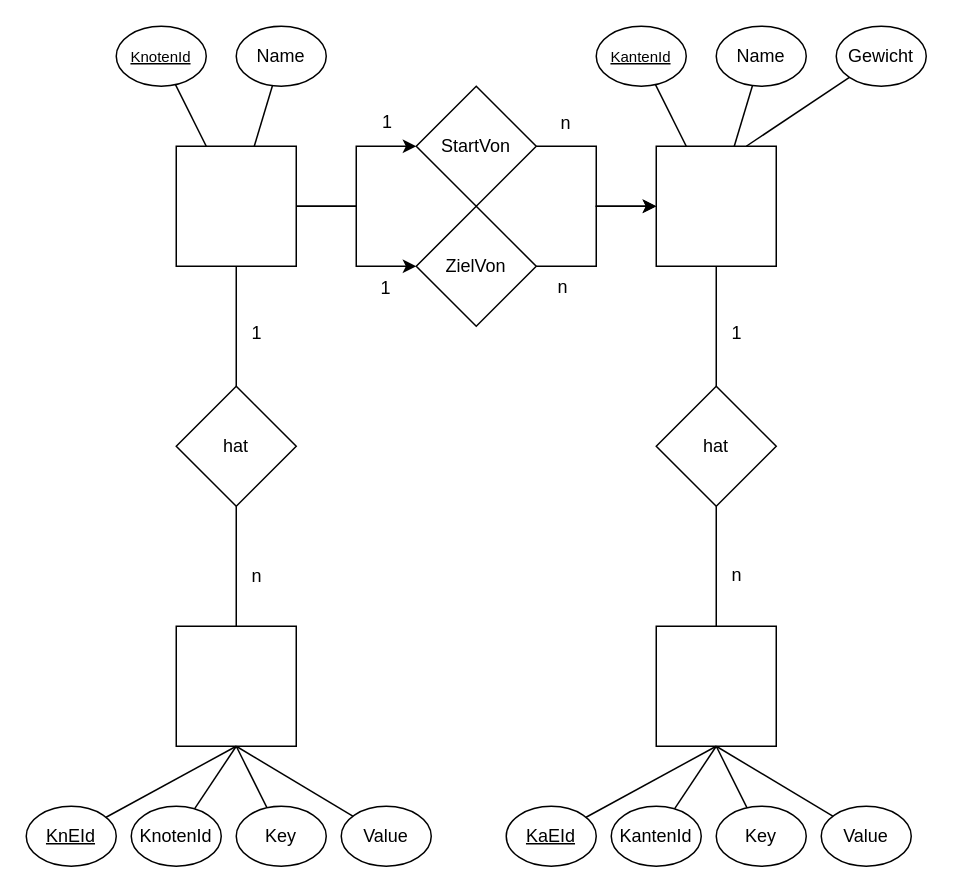
This 953x893 diagram has some shape labels left out. Here are the shapes that lost their labels. From the top down, the box of each, then its label:
(175, 145, 296, 266): Knoten
(655, 145, 776, 266): Kanten
(175, 625, 296, 746): Knoten- Eigenschaften
(655, 625, 776, 746): Kanten- Eigenschaften
